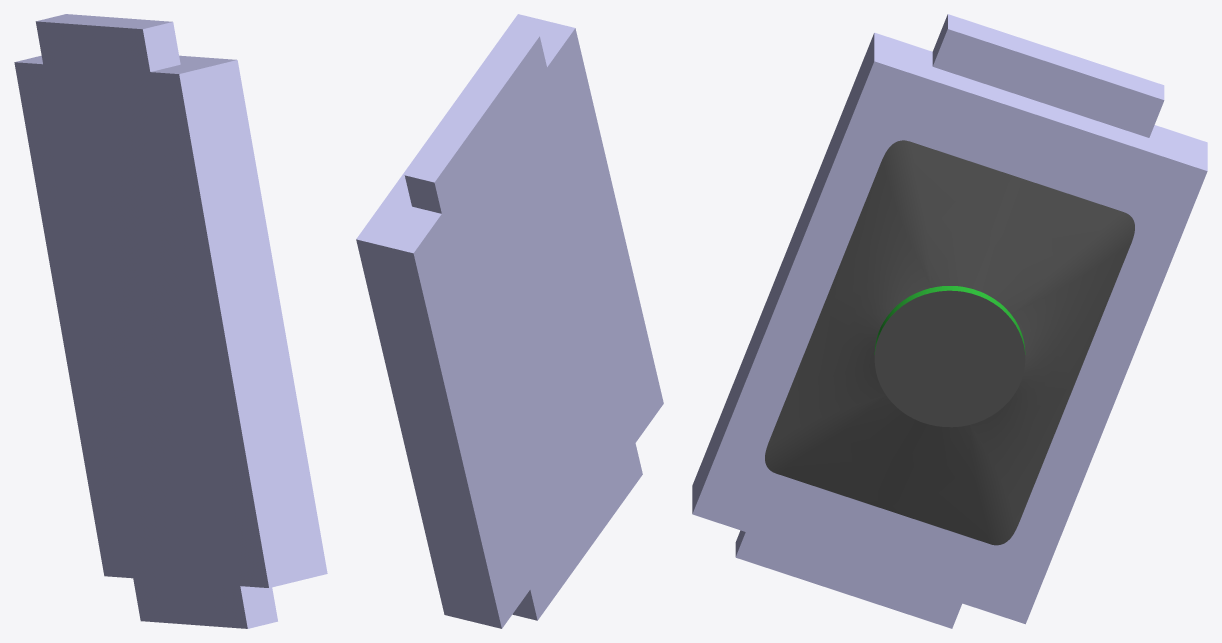
Rendered from EBoxNewAsm_stp_1_IMC413_1_stp_1_IMC413_1_29_stp_1_solid1.obj.
3 renders of one model, left to right at view 1: azimuth 30°, elevation 25°; view 2: azimuth 150°, elevation 25°; view 3: azimuth 270°, elevation 25°, orthographic. The views are drawn at different scales.
Visible parts, largest first — view 1: mesh13012, mesh13005, mesh13010, mesh13015, mesh13009, mesh13007; view 2: mesh13012, mesh13006, mesh13009, mesh13007, mesh13011; view 3: mesh13004, mesh13001, mesh12999, mesh12994, mesh12996, mesh13002, mesh13008, mesh13007, mesh13016, mesh13005, mesh13009, mesh13000 (+4 smaller).
Part boxes in pixels (left/top/right/bottom): mesh13012: left=14, top=21, right=268, bottom=628; mesh13005: left=179, top=60, right=327, bottom=587; mesh13010: left=143, top=22, right=180, bottom=71; mesh13015: left=240, top=586, right=277, bottom=628; mesh13009: left=37, top=14, right=172, bottom=29; mesh13007: left=15, top=55, right=236, bottom=73; mesh13012: left=413, top=28, right=663, bottom=628; mesh13006: left=356, top=239, right=501, bottom=628; mesh13009: left=405, top=29, right=539, bottom=182; mesh13007: left=356, top=14, right=574, bottom=253; mesh13011: left=404, top=175, right=441, bottom=213; mesh13004: left=692, top=61, right=1207, bottom=624; mesh13001: left=910, top=141, right=1122, bottom=313; mesh12999: left=769, top=161, right=931, bottom=441; mesh12994: left=874, top=290, right=1025, bottom=427; mesh12996: left=777, top=396, right=989, bottom=543; mesh13002: left=971, top=243, right=1131, bottom=524; mesh13008: left=933, top=29, right=1164, bottom=137; mesh13007: left=874, top=32, right=1207, bottom=170; mesh13016: left=735, top=532, right=962, bottom=628; mesh13005: left=692, top=33, right=874, bottom=513; mesh13009: left=948, top=14, right=1164, bottom=99; mesh13000: left=882, top=140, right=931, bottom=286.
Size of the model in its own units: 0.0006 by 0.00373 by 0.00291.
